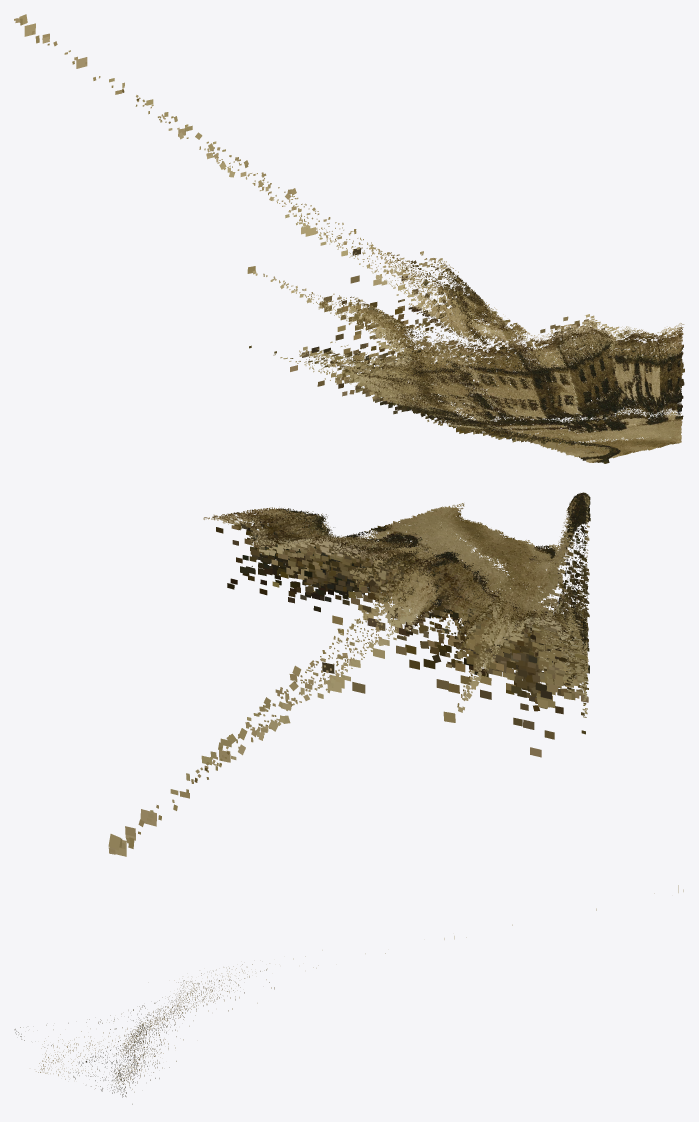
Rendered from scripps_1924_splatlook_quest.glb.
3 renders of one model, top to bottom at view 1: azimuth 30°, elevation 25°; view 2: azimuth 150°, elevation 25°; view 3: azimuth 270°, elevation 25°, orthographic. The views are drawn at different scales.
Visible parts, largest first — view 1: Scripps1924_splat_quads; view 2: Scripps1924_splat_quads; view 3: Scripps1924_splat_quads.
Part boxes in pixels (<box>): Scripps1924_splat_quads: <box>14,14,684,463</box>; Scripps1924_splat_quads: <box>108,492,590,856</box>; Scripps1924_splat_quads: <box>14,885,683,1104</box>.
Bounding box in the file's own units: 69.87 × 32.05 × 160.
